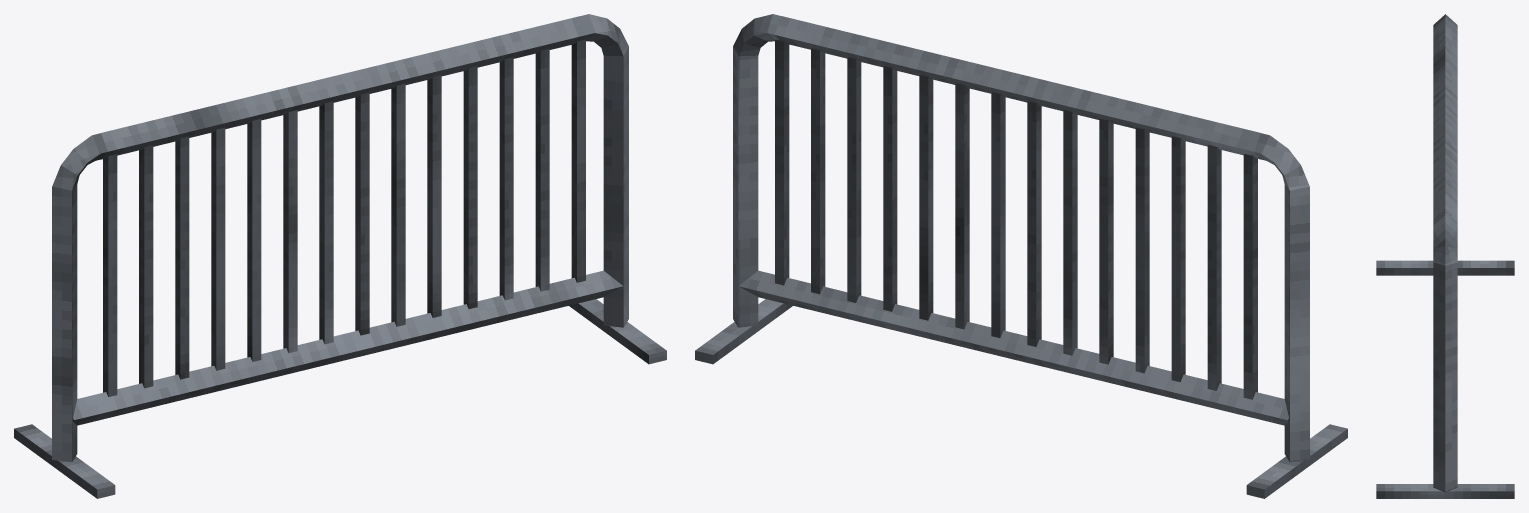
The model's file is riot_fence.gltf.
3 renders of one model, left to right at view 1: azimuth 30°, elevation 25°; view 2: azimuth 150°, elevation 25°; view 3: azimuth 270°, elevation 25°, orthographic. The views are drawn at different scales.
Visible parts, largest first — view 1: riot_fence; view 2: riot_fence; view 3: riot_fence.
Part boxes in pixels (left/top/right/bottom): riot_fence: left=14, top=14, right=666, bottom=498; riot_fence: left=695, top=14, right=1347, bottom=498; riot_fence: left=1376, top=14, right=1514, bottom=498.
Bounding box in the file's own units: 2 × 1.08 × 0.5.
Materials: 1 (1 with a texture image).
